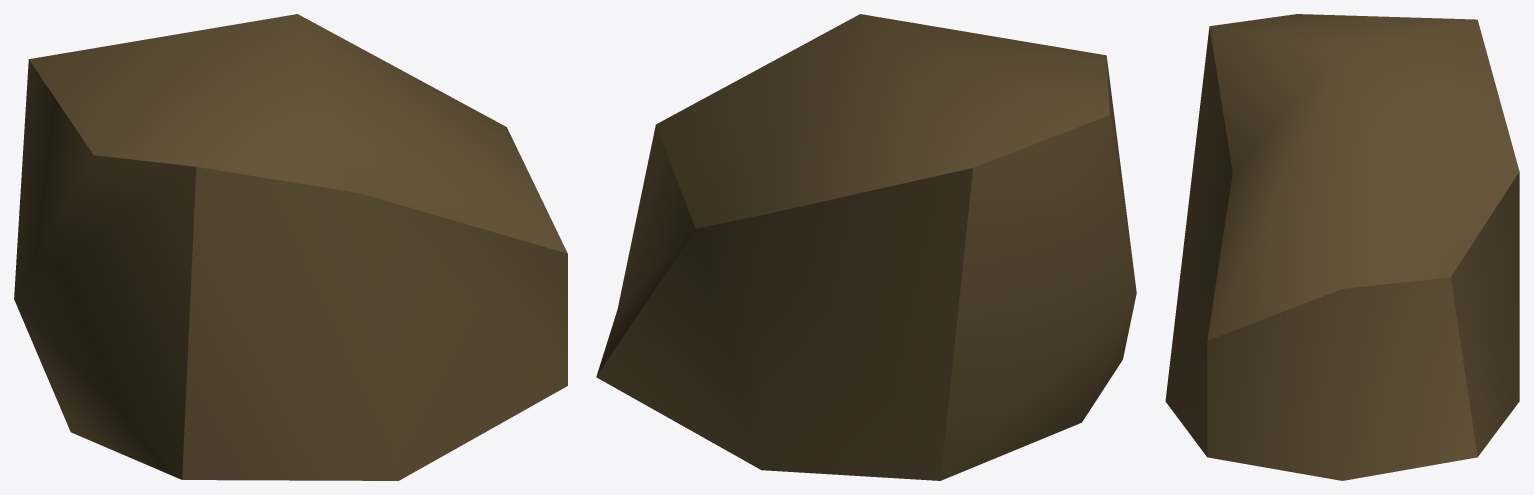
File: 金属矿石.fbx
3 views of the same model, side by side, from view 1: azimuth 30°, elevation 25°; view 2: azimuth 150°, elevation 25°; view 3: azimuth 270°, elevation 25° (orthographic). The views are drawn at different scales.
Parts seen in each view (by area): view 1: Box002; view 2: Box002; view 3: Box002.
Part boxes in pixels (bbox=[...]): Box002: bbox=[14, 14, 567, 480]; Box002: bbox=[596, 14, 1136, 480]; Box002: bbox=[1165, 14, 1519, 480].
Bounding box in the file's own units: 141 × 100 × 92.55.
